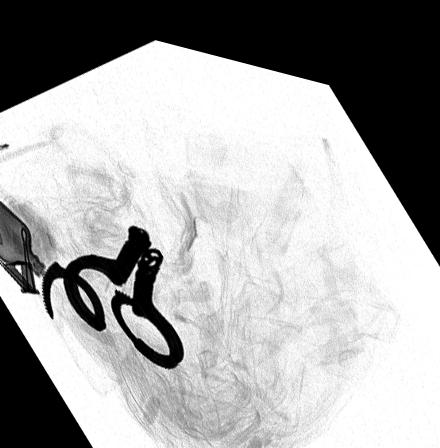HandCuffs: (37, 215, 188, 361)
